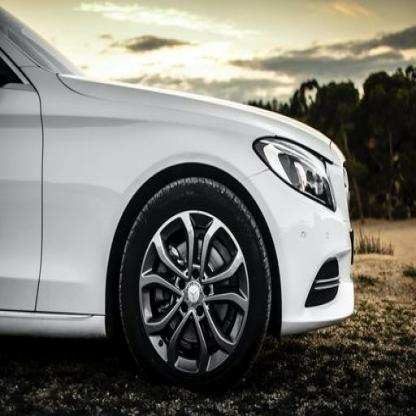Tire: (117, 176, 272, 394)
